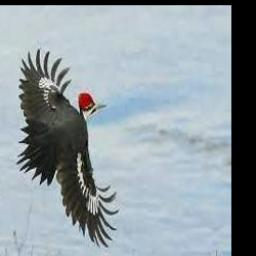Woodpecker: (16, 47, 120, 247)
